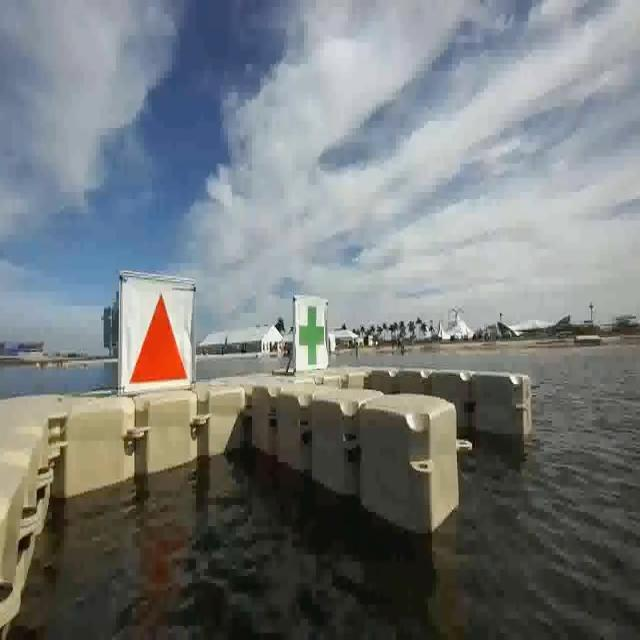blue-cross: (298, 304, 326, 371)
red-dot: (124, 274, 189, 391)
